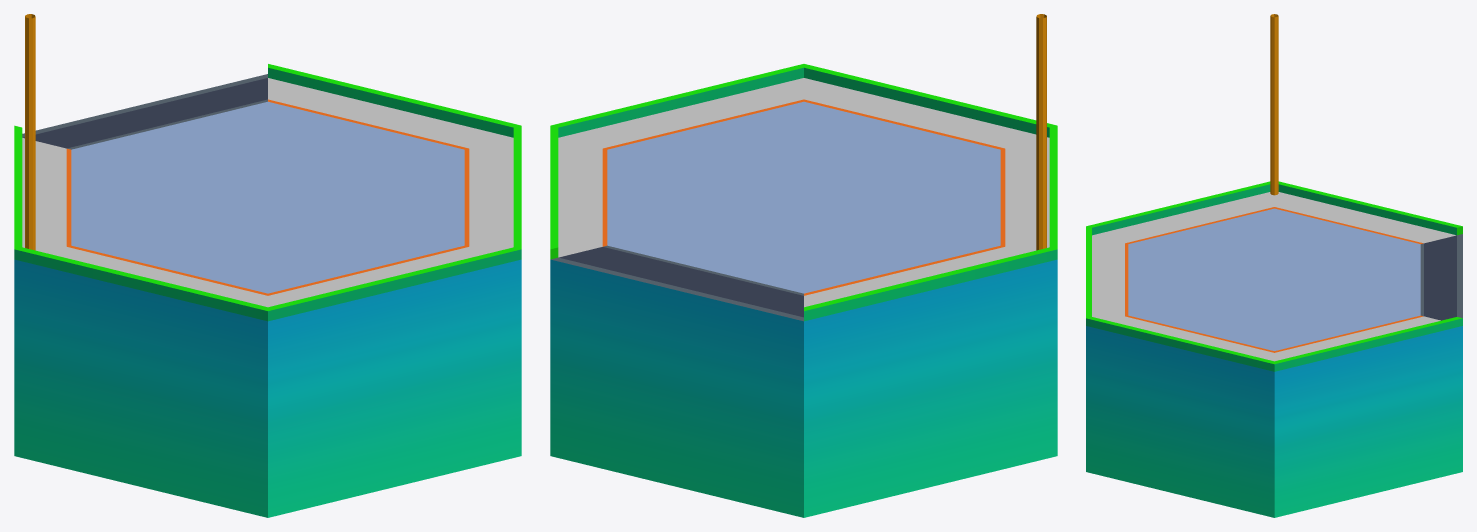
File: _inihs.fbx
3 views of the same model, side by side, from view 1: azimuth 30°, elevation 25°; view 2: azimuth 150°, elevation 25°; view 3: azimuth 270°, elevation 25° (orthographic). The views are drawn at different scales.
Parts seen in each view (by area): view 1: pCylinder1, pCylinder2; view 2: pCylinder1, pCylinder2; view 3: pCylinder1, pCylinder2.
Part boxes in pixels (x1,y1,x2,y2): pCylinder1: (14,64,521,517); pCylinder2: (25,14,35,250); pCylinder1: (550,64,1057,517); pCylinder2: (1036,14,1046,250); pCylinder1: (1086,181,1462,517); pCylinder2: (1270,14,1278,195).
Size of the model in its own units: 830 by 682 by 718.
